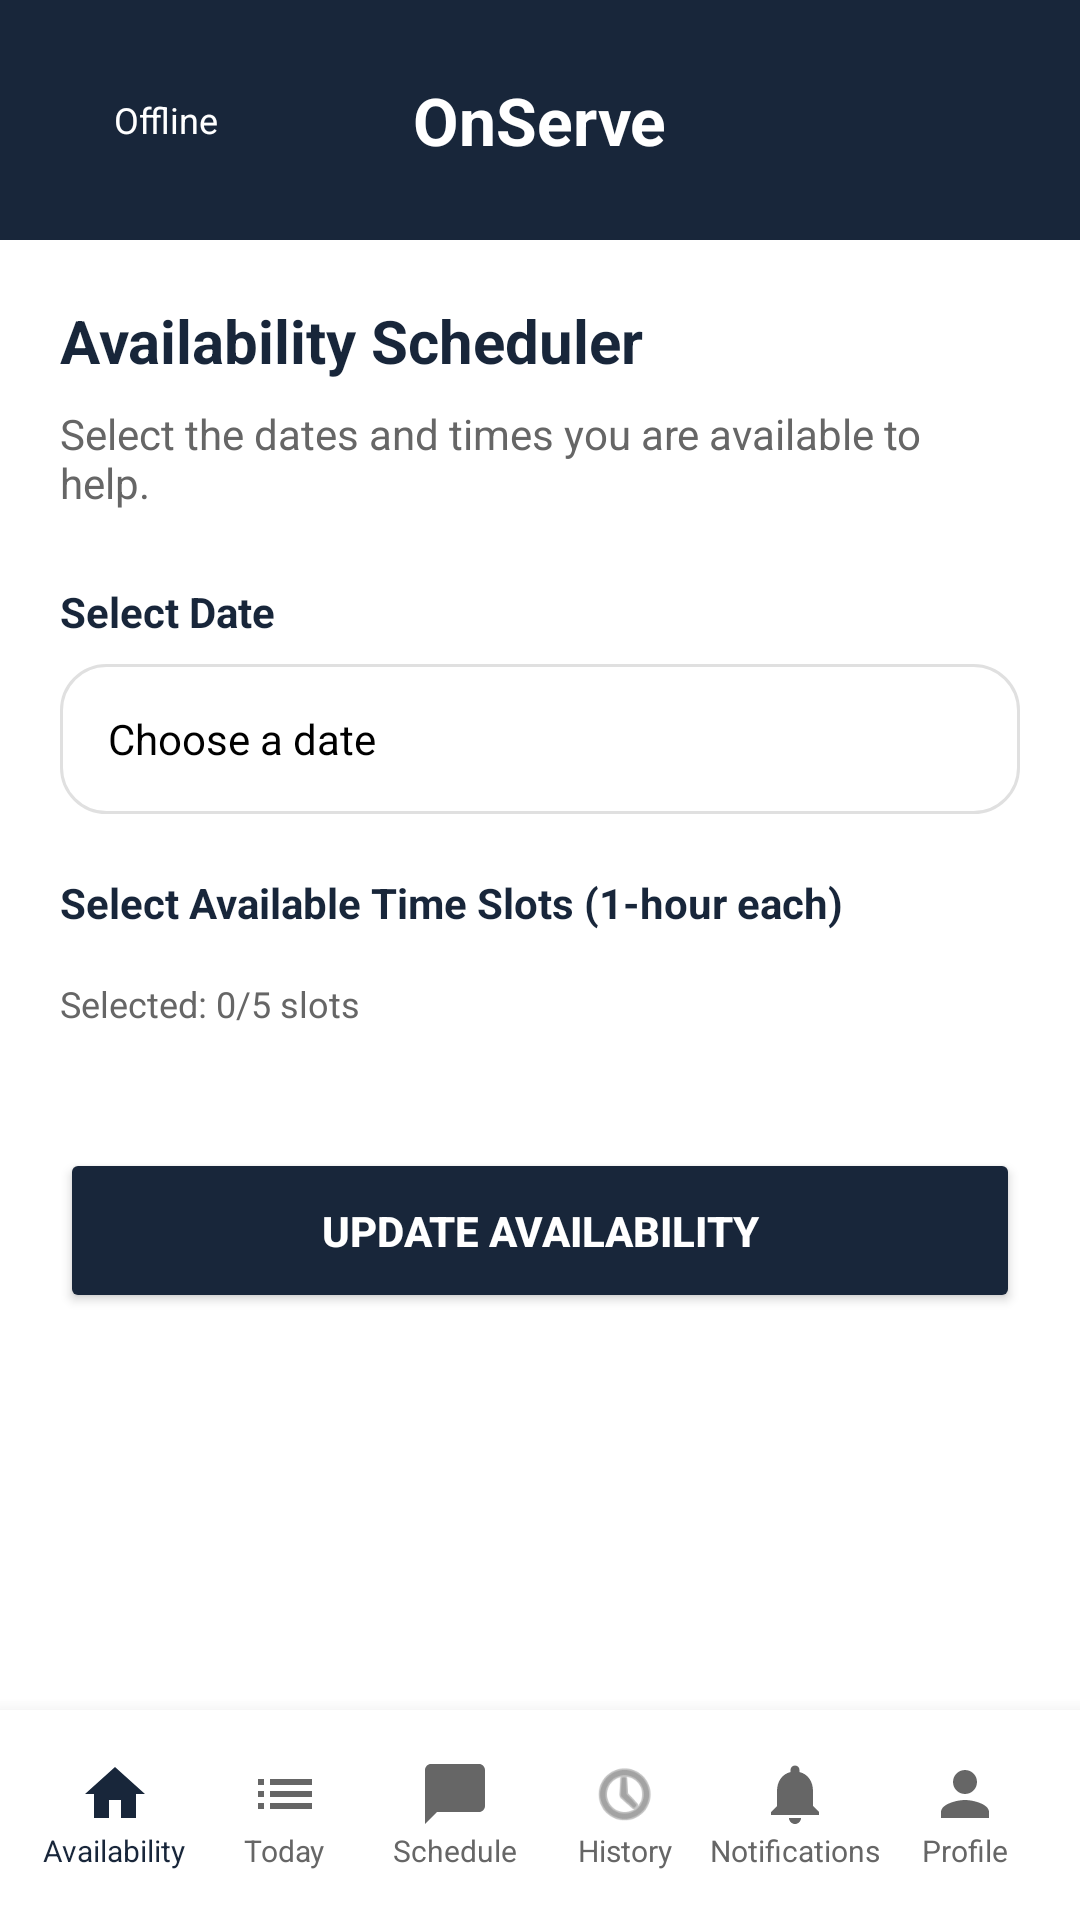

Screen size 1080x1920. Icon name, then its center in pixels as [x,y]:
home: [115,1792]
messages: [455,1794]
